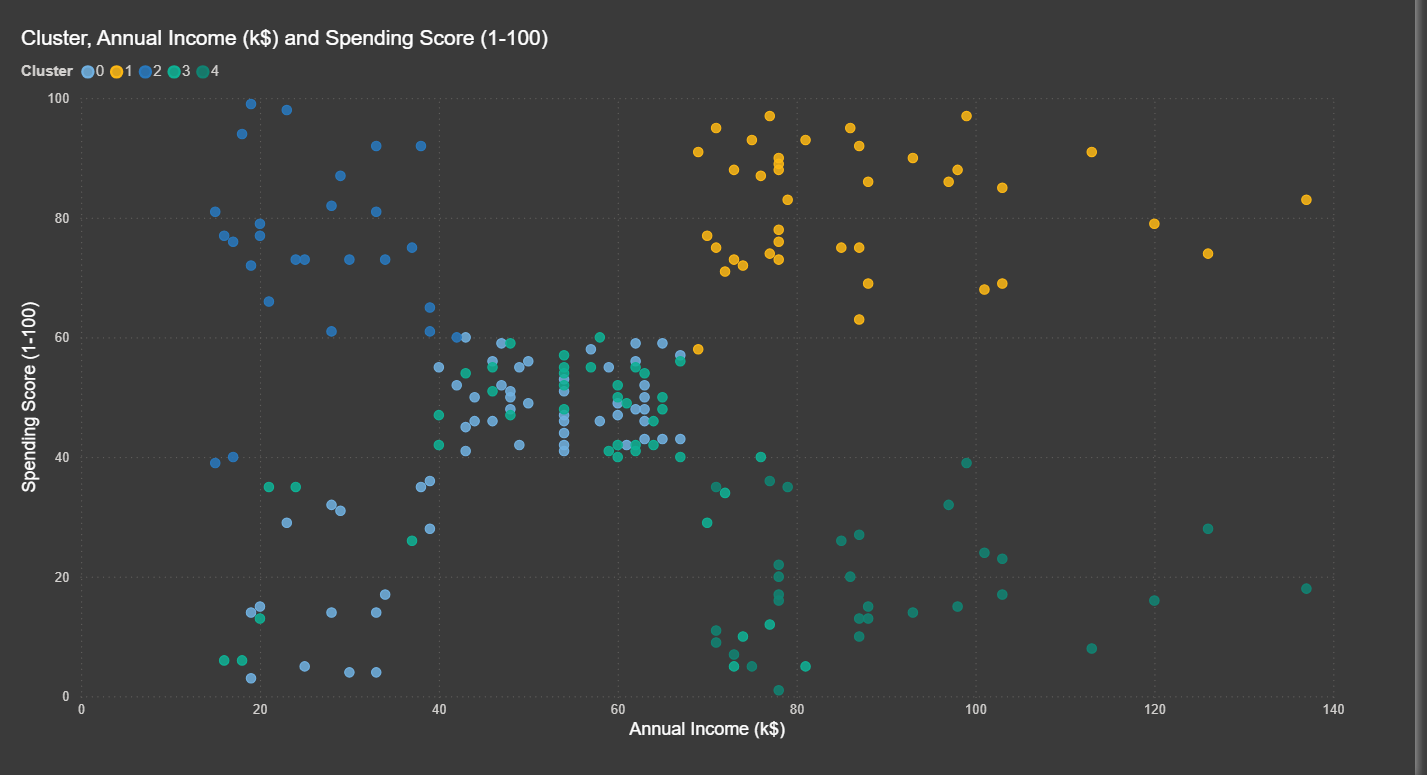

The dashboard page shown, as its layout file describes it:
{"tool":"powerbi","page":{"name":"Page 2","canvas":[1280,720],"ordinal":1},"visuals":[{"type":"scatterChart","fields":{"X":["Customer_Segments.Annual Income (k$)"],"Y":["Customer_Segments.Spending Score (1-100)"],"Series":["Customer_Segments.Cluster"]},"box":[32.9,49.4,1189.7,639.5],"z":0}]}

Visuals, with their boxes on the page's 1280x720 design canvas (x1, y1, x2, y2). These are canvas units, not pixel positions in the 1427x775 screenshot, which may show the page scaled, cropped or inside an application window:
scatterChart - Customer_Segments.Annual Income (k$) x Customer_Segments.Spending Score (1-100): rect(33, 49, 1223, 689)
